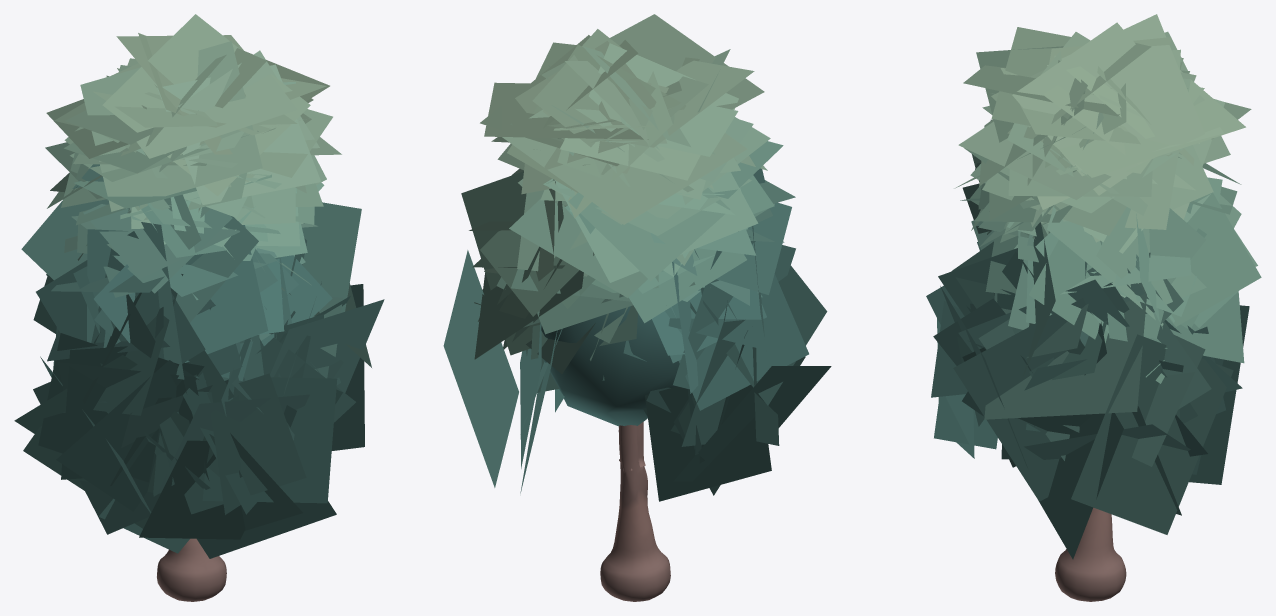
Rendered from b_yew.glb.
3 views of the same model, side by side, from view 1: azimuth 30°, elevation 25°; view 2: azimuth 150°, elevation 25°; view 3: azimuth 270°, elevation 25° (orthographic). The views are drawn at different scales.
Visible parts, largest first — view 1: near; view 2: near; view 3: near.
Part boxes in pixels (x1,y1,x2,y2): near: (14, 14, 384, 601); near: (443, 14, 831, 601); near: (926, 14, 1261, 601).
Size of the model in its own units: 8.19 by 11.41 by 6.84.
